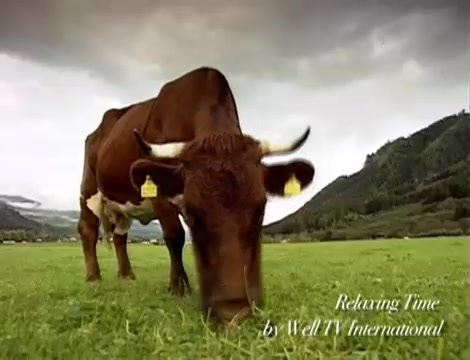cow: (79, 65, 315, 332)
